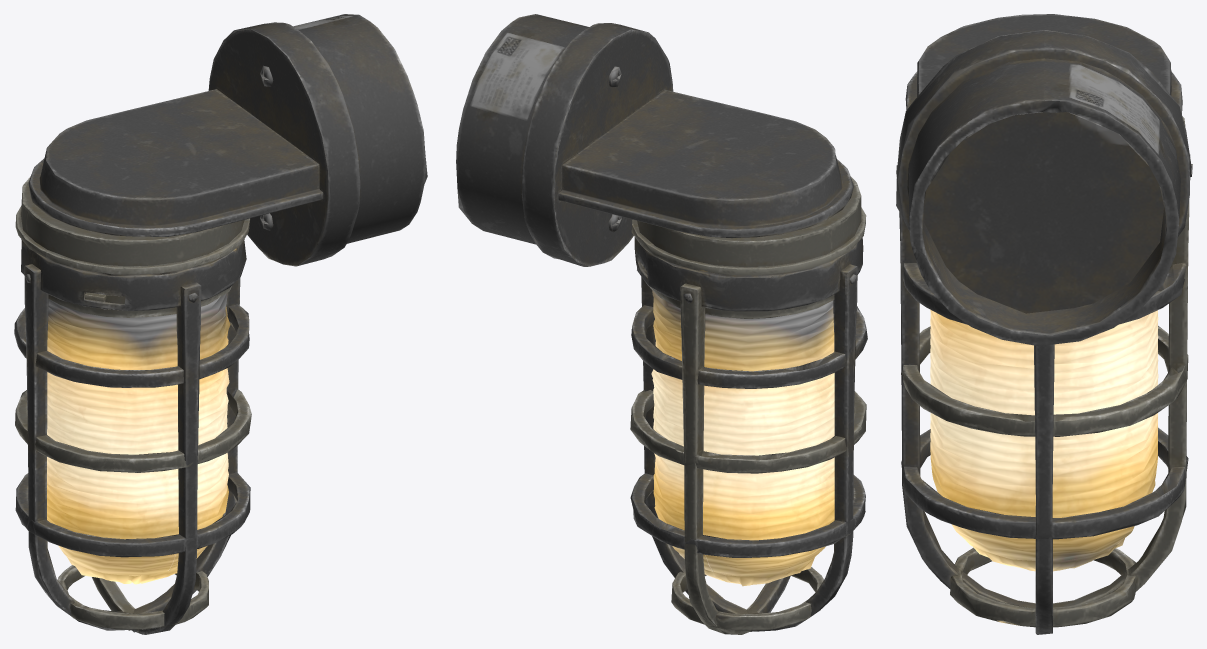
File: SM_Sewer_Light_Wall_Fixture_On.fbx
3 renders of one model, left to right at view 1: azimuth 30°, elevation 25°; view 2: azimuth 150°, elevation 25°; view 3: azimuth 270°, elevation 25°, orthographic. The views are drawn at different scales.
Visible parts, largest first — view 1: SM_Sewer_Light_Wall_Fixture_On_LOD0; view 2: SM_Sewer_Light_Wall_Fixture_On_LOD0; view 3: SM_Sewer_Light_Wall_Fixture_On_LOD0.
Part boxes in pixels (bbox=[...]): SM_Sewer_Light_Wall_Fixture_On_LOD0: bbox=[14, 14, 427, 634]; SM_Sewer_Light_Wall_Fixture_On_LOD0: bbox=[456, 14, 867, 634]; SM_Sewer_Light_Wall_Fixture_On_LOD0: bbox=[896, 14, 1192, 634].
Bounding box in the file's own units: 26.78 × 16.37 × 41.22.
